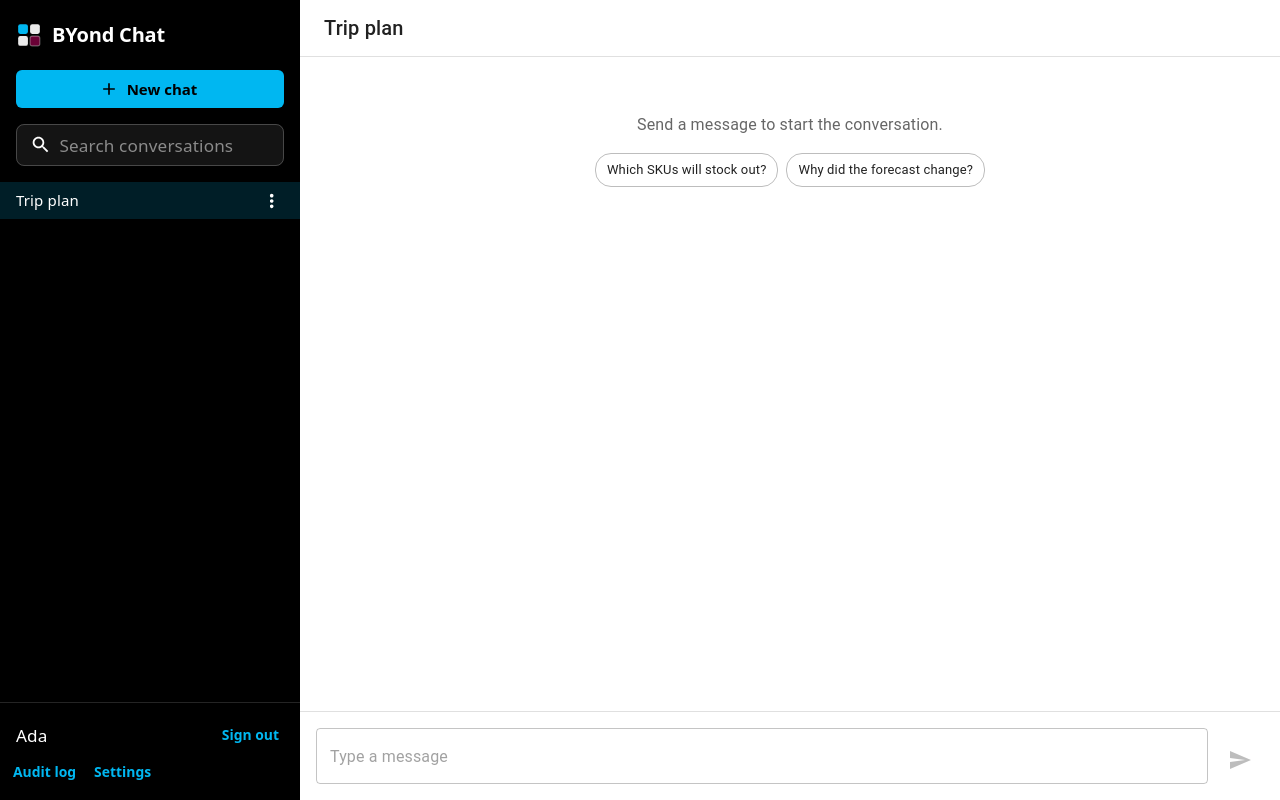
it: chat › refreshes the sidebar as soon as the reply starts, not only when it ends
Type "hello" into the text box labelled "message" at (762, 756), box [330,744,1194,768]
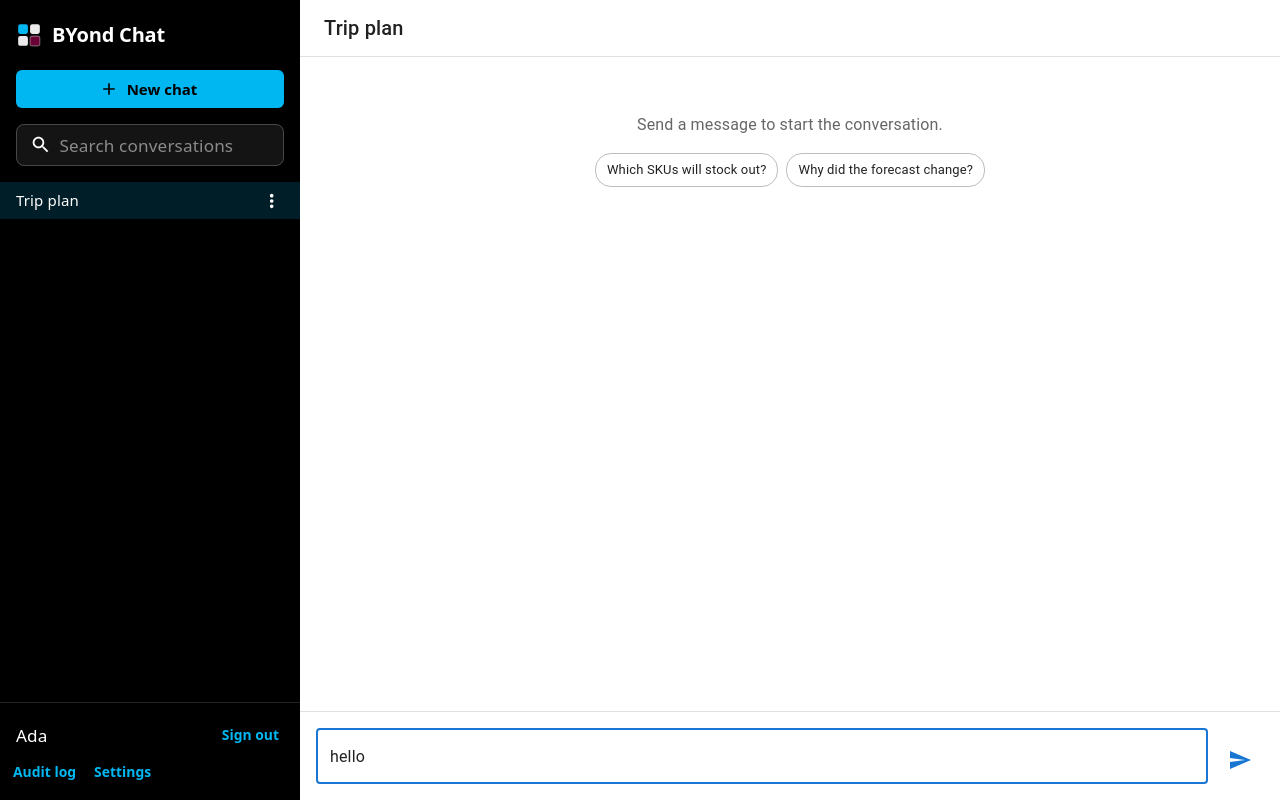
Click the button named "Send message" at (1240, 760), box [1216,736,1264,784]
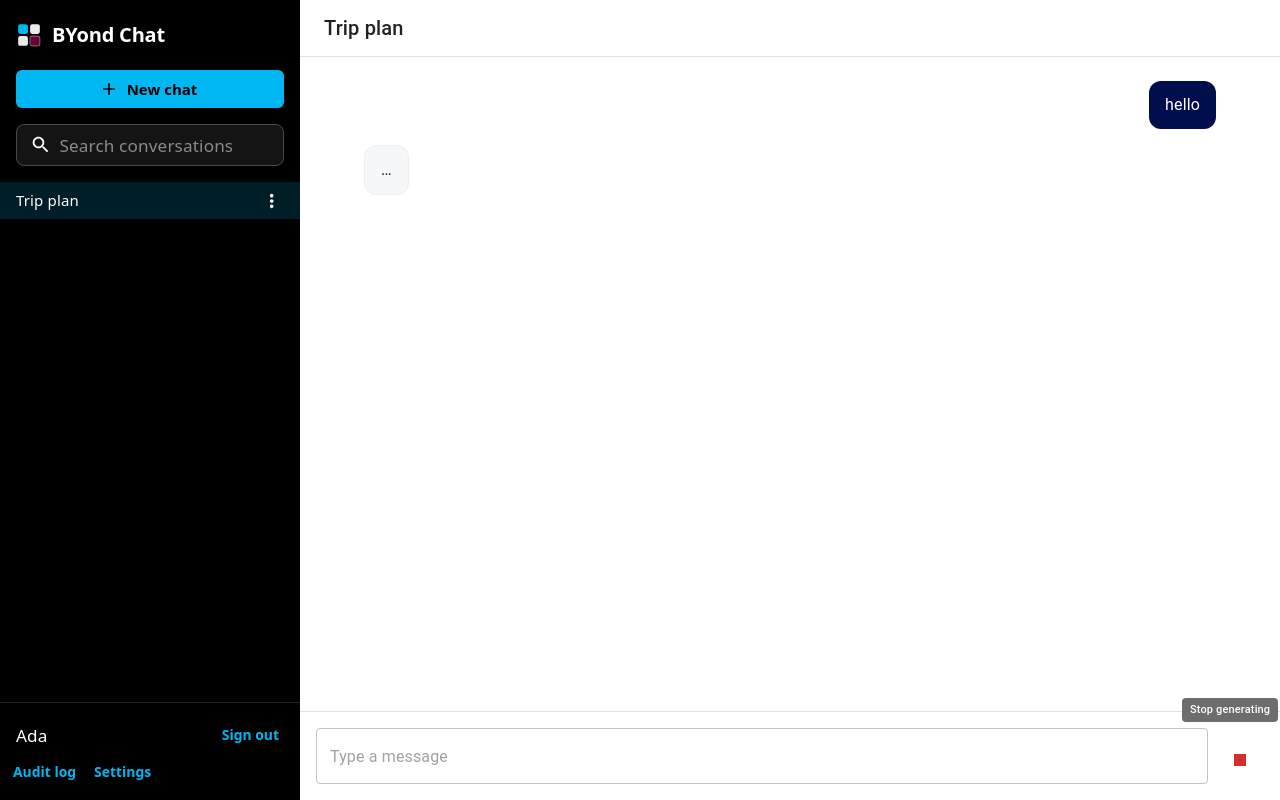
expect the button named "Stop generating" is shown: met, box [1216,736,1264,784]
